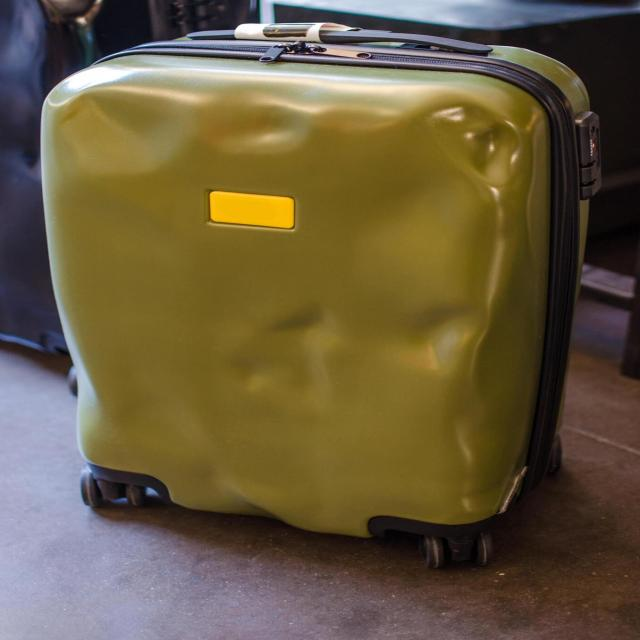Damage-bag: (232, 240, 544, 514), (45, 66, 310, 158), (223, 452, 336, 521), (429, 106, 532, 180)
